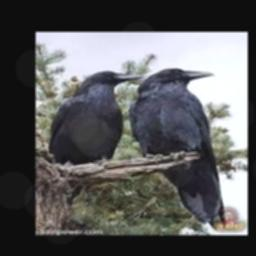Crow: (128, 68, 226, 227), (47, 71, 143, 167)
